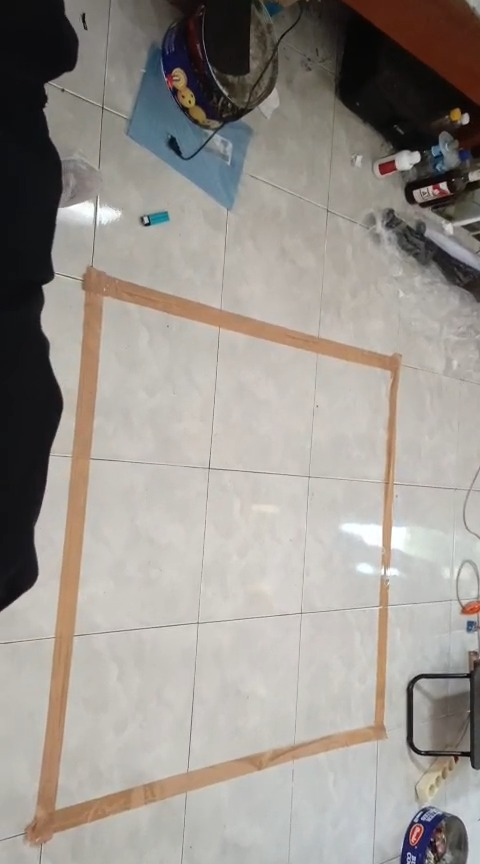floor marking: (26, 267, 399, 841)
